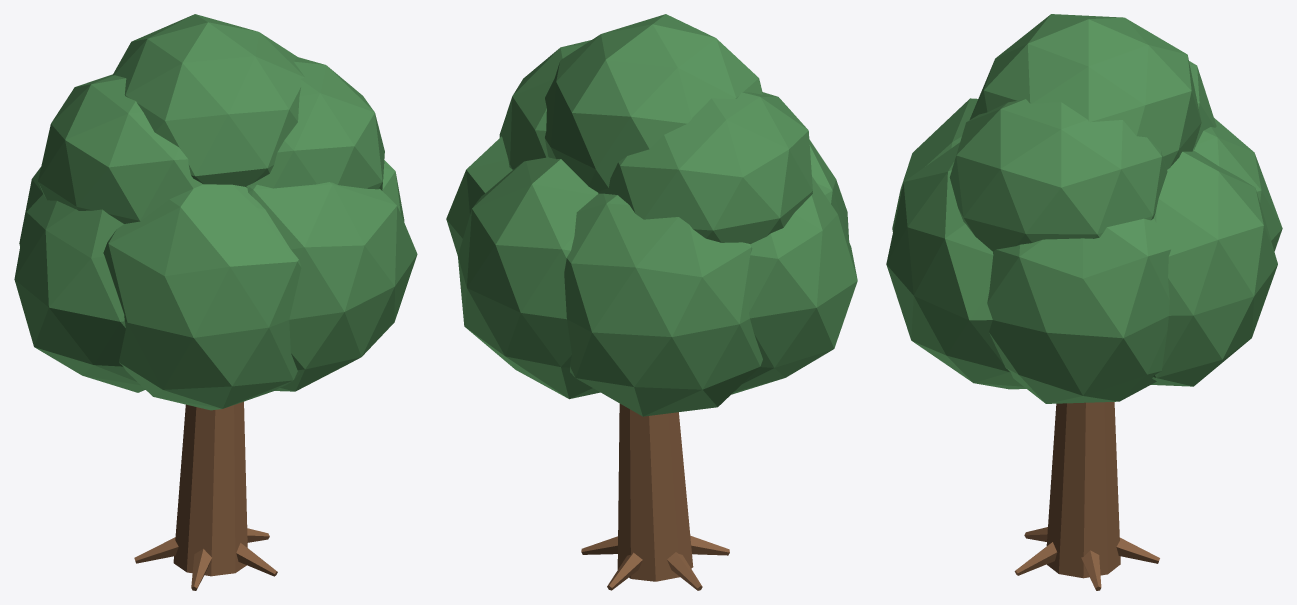
The model's file is arvore.glb.
3 views of the same model, side by side, from view 1: azimuth 30°, elevation 25°; view 2: azimuth 150°, elevation 25°; view 3: azimuth 270°, elevation 25° (orthographic).
Visible parts, largest first — view 1: bosque_arvore; view 2: bosque_arvore; view 3: bosque_arvore.
Boxes of the visible parts, x1,y1,x2,y2 form: bosque_arvore: [14, 14, 417, 590]; bosque_arvore: [446, 14, 857, 590]; bosque_arvore: [886, 14, 1282, 590].
Bounding box in the file's own units: 1.57 × 2.19 × 1.45.
